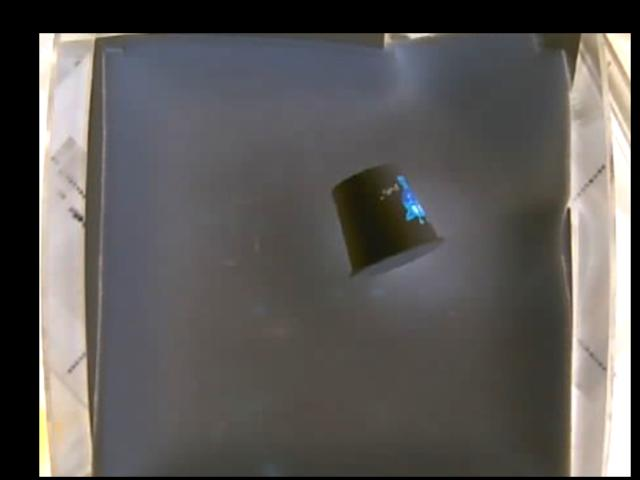Cup: (335, 163, 441, 273)
